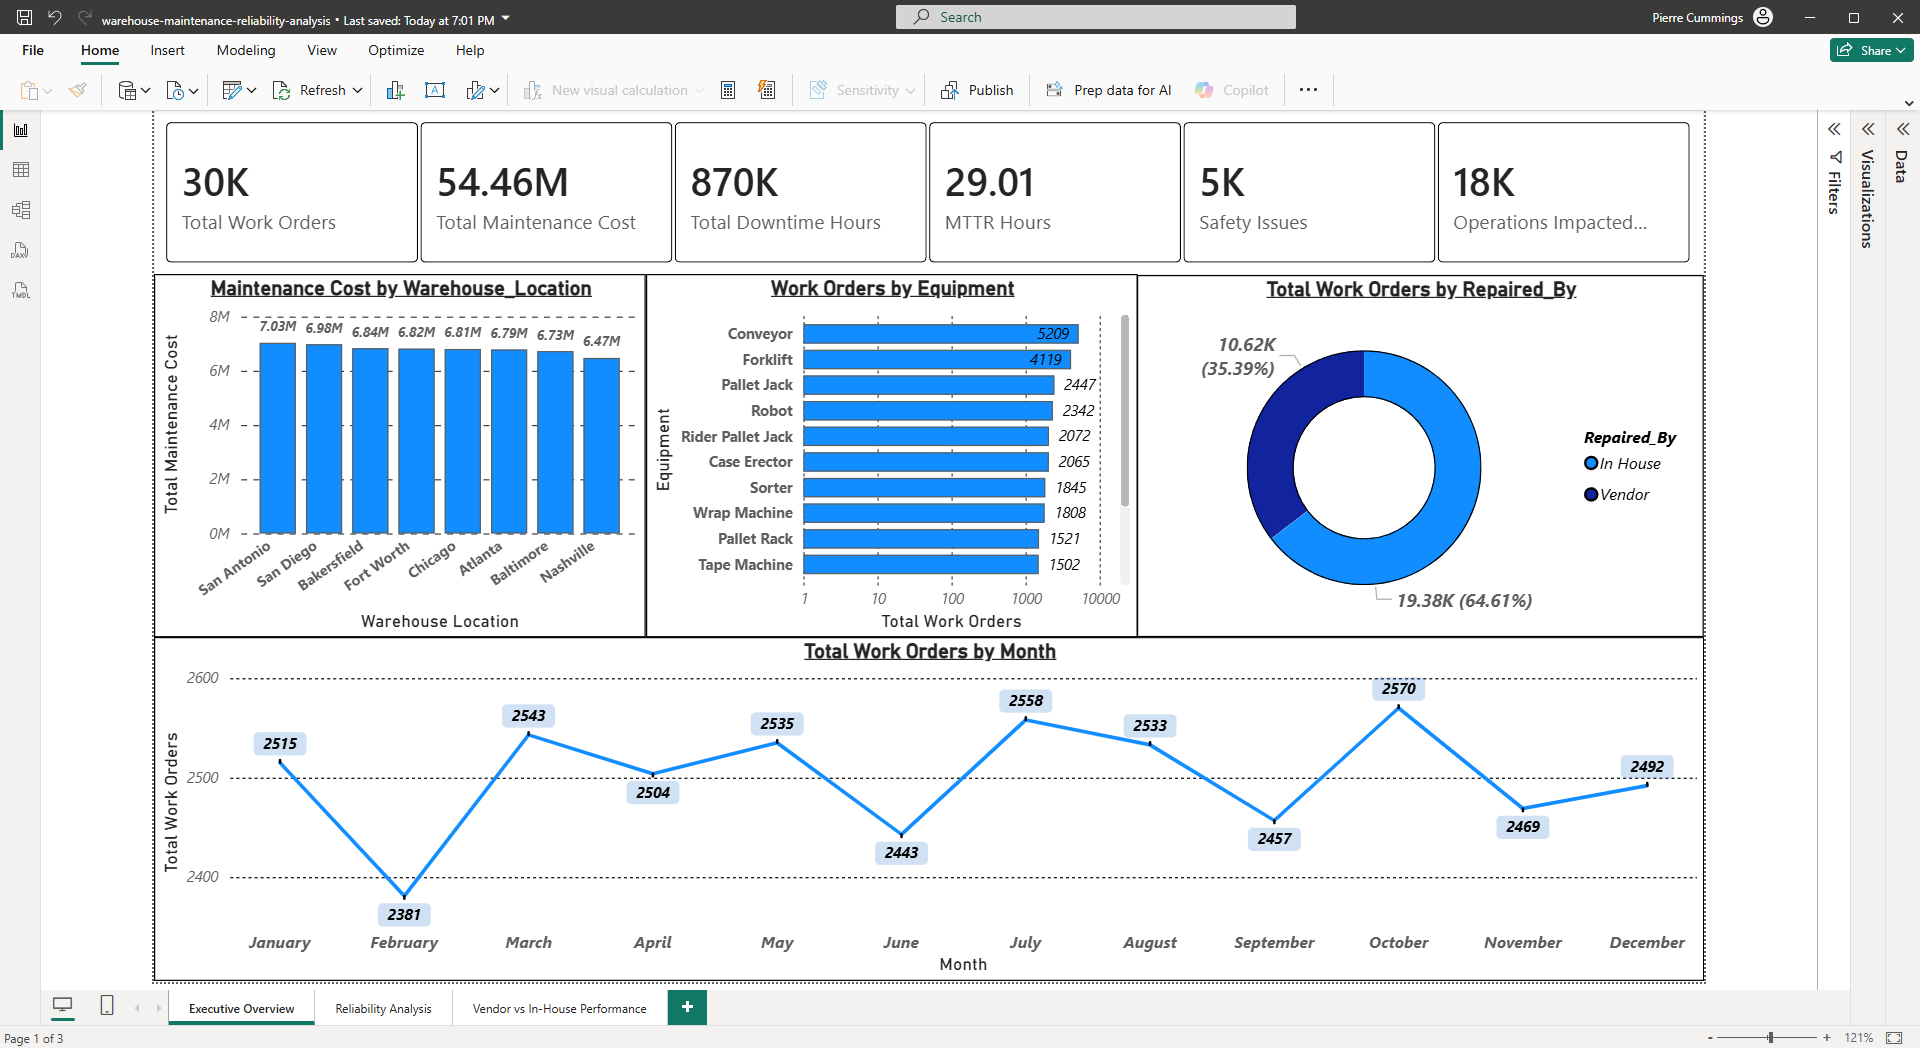

Layout of this report page (visuals, bound fields, positions):
{"tool":"powerbi","page":{"name":"Executive Overview","canvas":[1280,720],"ordinal":0},"visuals":[{"type":"cardVisual","fields":{"Data":["warehouse_operations_dataset_v2.Total Work Orders","warehouse_operations_dataset_v2.Total Maintenance Cost","warehouse_operations_dataset_v2.Total Downtime Hours","warehouse_operations_dataset_v2.MTTR Hours","warehouse_operations_dataset_v2.Safety Issues","warehouse_operations_dataset_v2.Operations Impacted Issues"]},"box":[0,0,1280,136.1],"z":0},{"type":"clusteredColumnChart","title":"Maintenance Cost by Warehouse_Location","fields":{"Y":["warehouse_operations_dataset_v2.Total Maintenance Cost"],"Category":["warehouse_operations_dataset_v2.Warehouse_Location"]},"box":[0,135.2,406.5,300.2],"z":1000},{"type":"clusteredBarChart","title":"Work Orders by Equipment","fields":{"Category":["warehouse_operations_dataset_v2.Equipment"],"Y":["warehouse_operations_dataset_v2.Total Work Orders"]},"box":[406.5,135.2,405.5,300.2],"z":2000},{"type":"lineChart","fields":{"Category":["warehouse_operations_dataset_v2.Date_Time.Variation.Date Hierarchy.Year","warehouse_operations_dataset_v2.Date_Time.Variation.Date Hierarchy.Month"],"Y":["warehouse_operations_dataset_v2.Total Work Orders"]},"box":[0,435.4,1280,284.3],"z":3000},{"type":"donutChart","fields":{"Category":["warehouse_operations_dataset_v2.Repaired_By"],"Y":["warehouse_operations_dataset_v2.Total Work Orders"]},"box":[812,136.1,468,299.3],"z":4000}]}

Visuals, with their boxes on the page's 1280x720 design canvas (x1, y1, x2, y2). These are canvas units, not pixel positions in the 1920x1048 screenshot, which may show the page scaled, cropped or inside an application window:
cardVisual - warehouse_operations_dataset_v2.Total Work Orders x warehouse_operations_dataset_v2.Total Maintenance Cost: l=0, t=0, r=1280, b=136
"Maintenance Cost by Warehouse_Location" clusteredColumnChart: l=0, t=135, r=406, b=435
"Work Orders by Equipment" clusteredBarChart: l=406, t=135, r=812, b=435
lineChart - warehouse_operations_dataset_v2.Date_Time.Variation.Date Hierarchy.Year x warehouse_operations_dataset_v2.Date_Time.Variation.Date Hierarchy.Month: l=0, t=435, r=1280, b=720
donutChart - warehouse_operations_dataset_v2.Repaired_By x warehouse_operations_dataset_v2.Total Work Orders: l=812, t=136, r=1280, b=435
